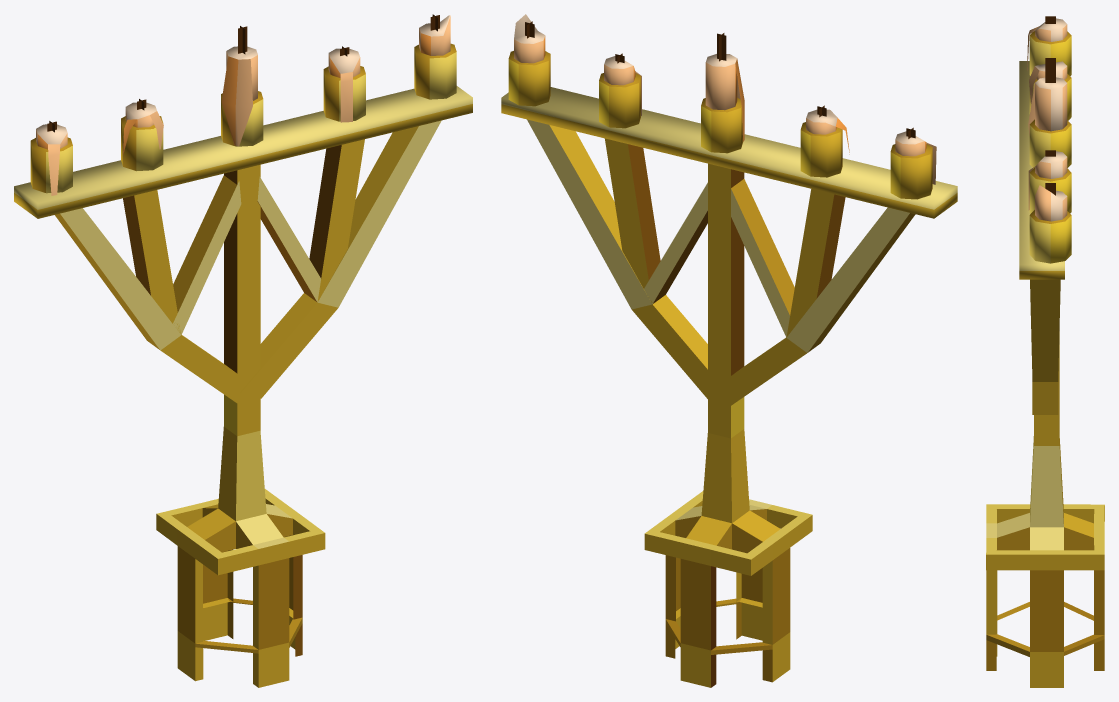
File: spent_light_997x04.gltf
The picture shows the model from 3 angles, left to right: view 1: azimuth 30°, elevation 25°; view 2: azimuth 150°, elevation 25°; view 3: azimuth 270°, elevation 25°; orthographic projection. The views are drawn at different scales.
Parts seen in each view (by area): view 1: spent_light_997x04; view 2: spent_light_997x04; view 3: spent_light_997x04.
Part boxes in pixels (x1,y1,x2,y2): spent_light_997x04: (14,14,472,687); spent_light_997x04: (501,14,957,687); spent_light_997x04: (986,16,1104,687).
Bounding box in the file's own units: 1.3 × 1.8 × 0.3189.
Materials: 1 (1 with a texture image).
